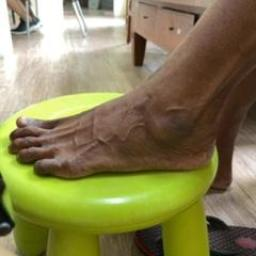Lateral View -Left Foot-: (2, 74, 250, 188)
